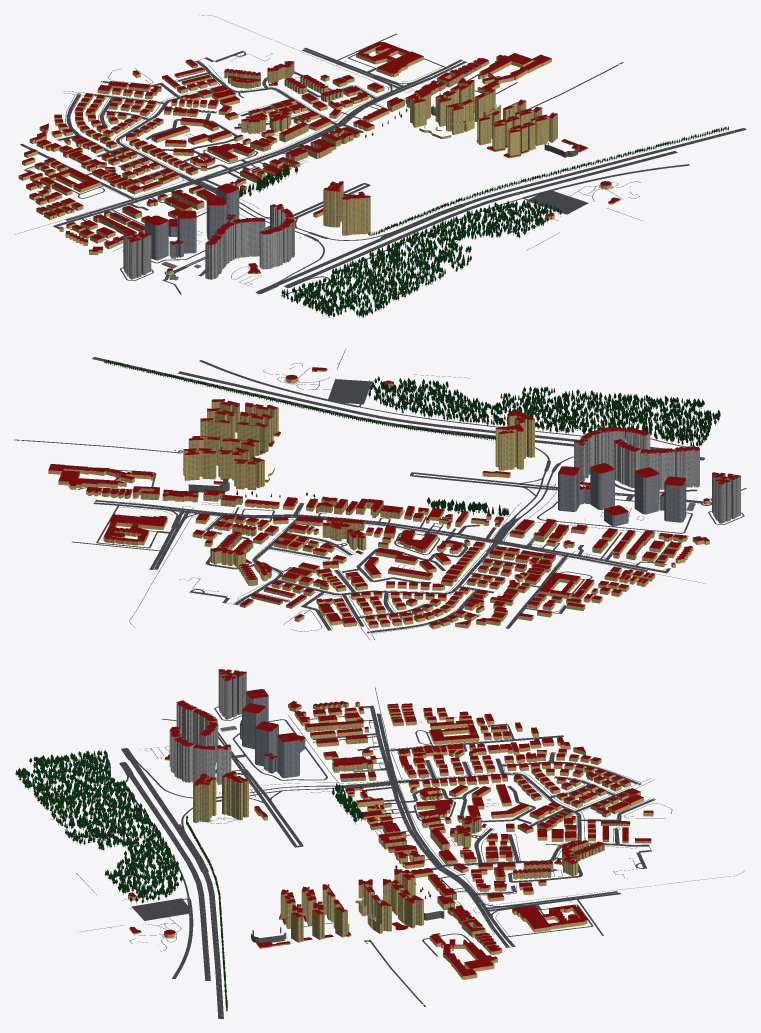
The model's file is osm3d.glb.
The picture shows the model from 3 angles, top to bottom: view 1: azimuth 30°, elevation 25°; view 2: azimuth 150°, elevation 25°; view 3: azimuth 270°, elevation 25°; orthographic projection. The views are drawn at different scales.
Visible parts, largest first — view 1: Plaster002, RoofingTiles010, ASPHALT, TextureAtlas b20c1a58, Windows, Concrete034.002, Concrete034.001, Windows.002, Windows.001, Concrete034.003, Concrete034; view 2: Plaster002, RoofingTiles010, ASPHALT, TextureAtlas b20c1a58, Windows, Concrete034.002, Concrete034.001, Windows.002, Windows.001, Concrete034.003, Concrete034, Windows.003; view 3: Plaster002, RoofingTiles010, ASPHALT, TextureAtlas b20c1a58, Windows, Concrete034.002, Concrete034.001, Windows.002, Windows.001, Concrete034, Concrete034.003, Windows.003.
Boxes of the visible parts, box(x1,y1,x2,y2) form: Plaster002: box(18, 44, 620, 274); RoofingTiles010: box(19, 42, 620, 272); ASPHALT: box(15, 33, 746, 296); TextureAtlas b20c1a58: box(239, 108, 728, 318); Windows: box(71, 62, 619, 273); Concrete034.002: box(205, 204, 294, 279); Concrete034.001: box(144, 189, 239, 260); Windows.002: box(205, 207, 294, 279); Windows.001: box(145, 190, 238, 259); Concrete034.003: box(123, 232, 151, 279); Concrete034: box(147, 14, 579, 285); Plaster002: box(48, 369, 709, 629); RoofingTiles010: box(48, 367, 740, 625); ASPHALT: box(14, 349, 746, 640); TextureAtlas b20c1a58: box(104, 360, 720, 516); Windows: box(102, 369, 654, 608); Concrete034.002: box(574, 429, 699, 489); Concrete034.001: box(558, 468, 686, 526); Windows.002: box(574, 429, 699, 489); Windows.001: box(558, 469, 685, 525); Concrete034.003: box(712, 473, 740, 523); Concrete034: box(119, 374, 711, 627); Windows.003: box(712, 474, 740, 522); Plaster002: box(128, 702, 653, 979); RoofingTiles010: box(128, 669, 653, 976); ASPHALT: box(50, 687, 672, 1018); TextureAtlas b20c1a58: box(15, 750, 431, 1011); Windows: box(130, 718, 650, 948); Concrete034.002: box(169, 702, 231, 784); Concrete034.001: box(240, 693, 305, 778); Windows.002: box(171, 704, 230, 784); Windows.001: box(240, 693, 305, 777); Concrete034: box(77, 726, 744, 942); Concrete034.003: box(218, 670, 246, 719); Windows.003: box(219, 671, 246, 718).
Bounding box in the file's own units: 1478 × 80.05 × 1378.
23 materials, 23 textured.
